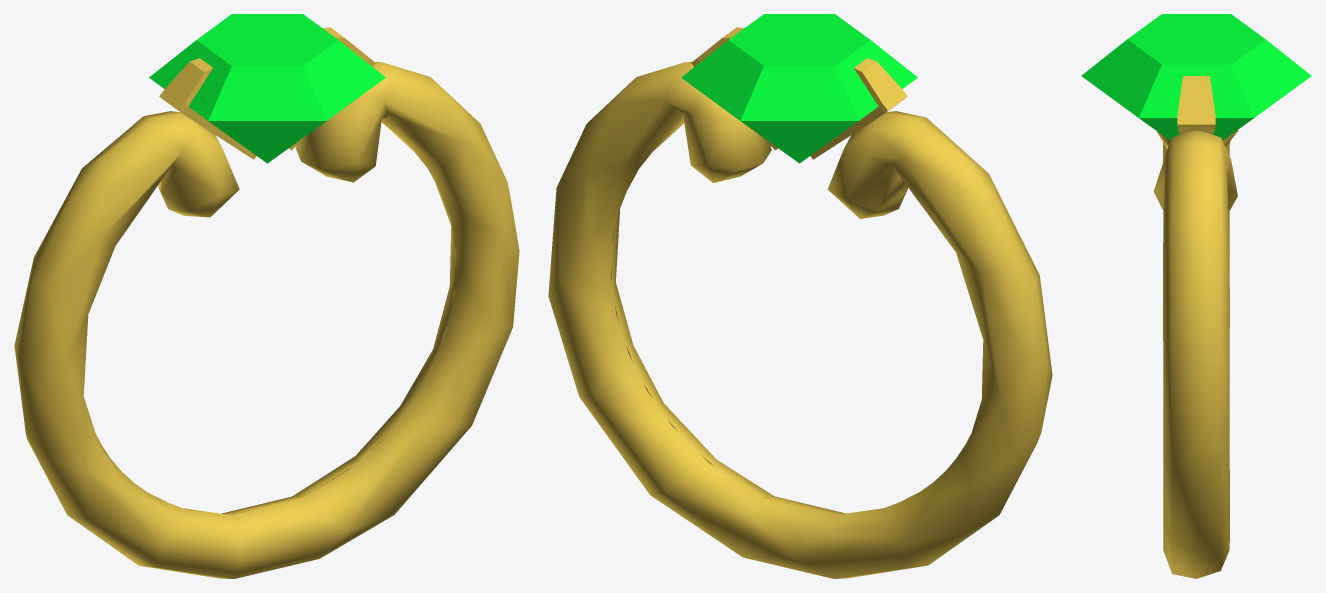
The model's file is klonoa-transformed.glb.
The picture shows the model from 3 angles, left to right: view 1: azimuth 30°, elevation 25°; view 2: azimuth 150°, elevation 25°; view 3: azimuth 270°, elevation 25°; orthographic projection. The views are drawn at different scales.
Visible parts, largest first — view 1: klonoa; view 2: klonoa; view 3: klonoa.
Boxes of the visible parts, bbox=[...] form: klonoa: bbox=[14, 14, 519, 578]; klonoa: bbox=[548, 14, 1052, 578]; klonoa: bbox=[1081, 14, 1311, 578].
Bounding box in the file's own units: 8.8 × 8.95 × 3.65.
Materials: 1 (1 with a texture image).
